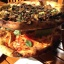olives: (19, 9, 31, 18), (8, 5, 19, 12), (33, 7, 39, 14)
pizza: (1, 1, 64, 30)
